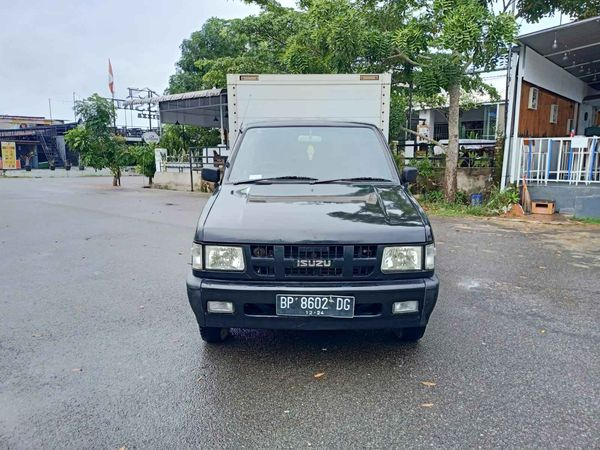plate: (270, 290, 360, 321)
